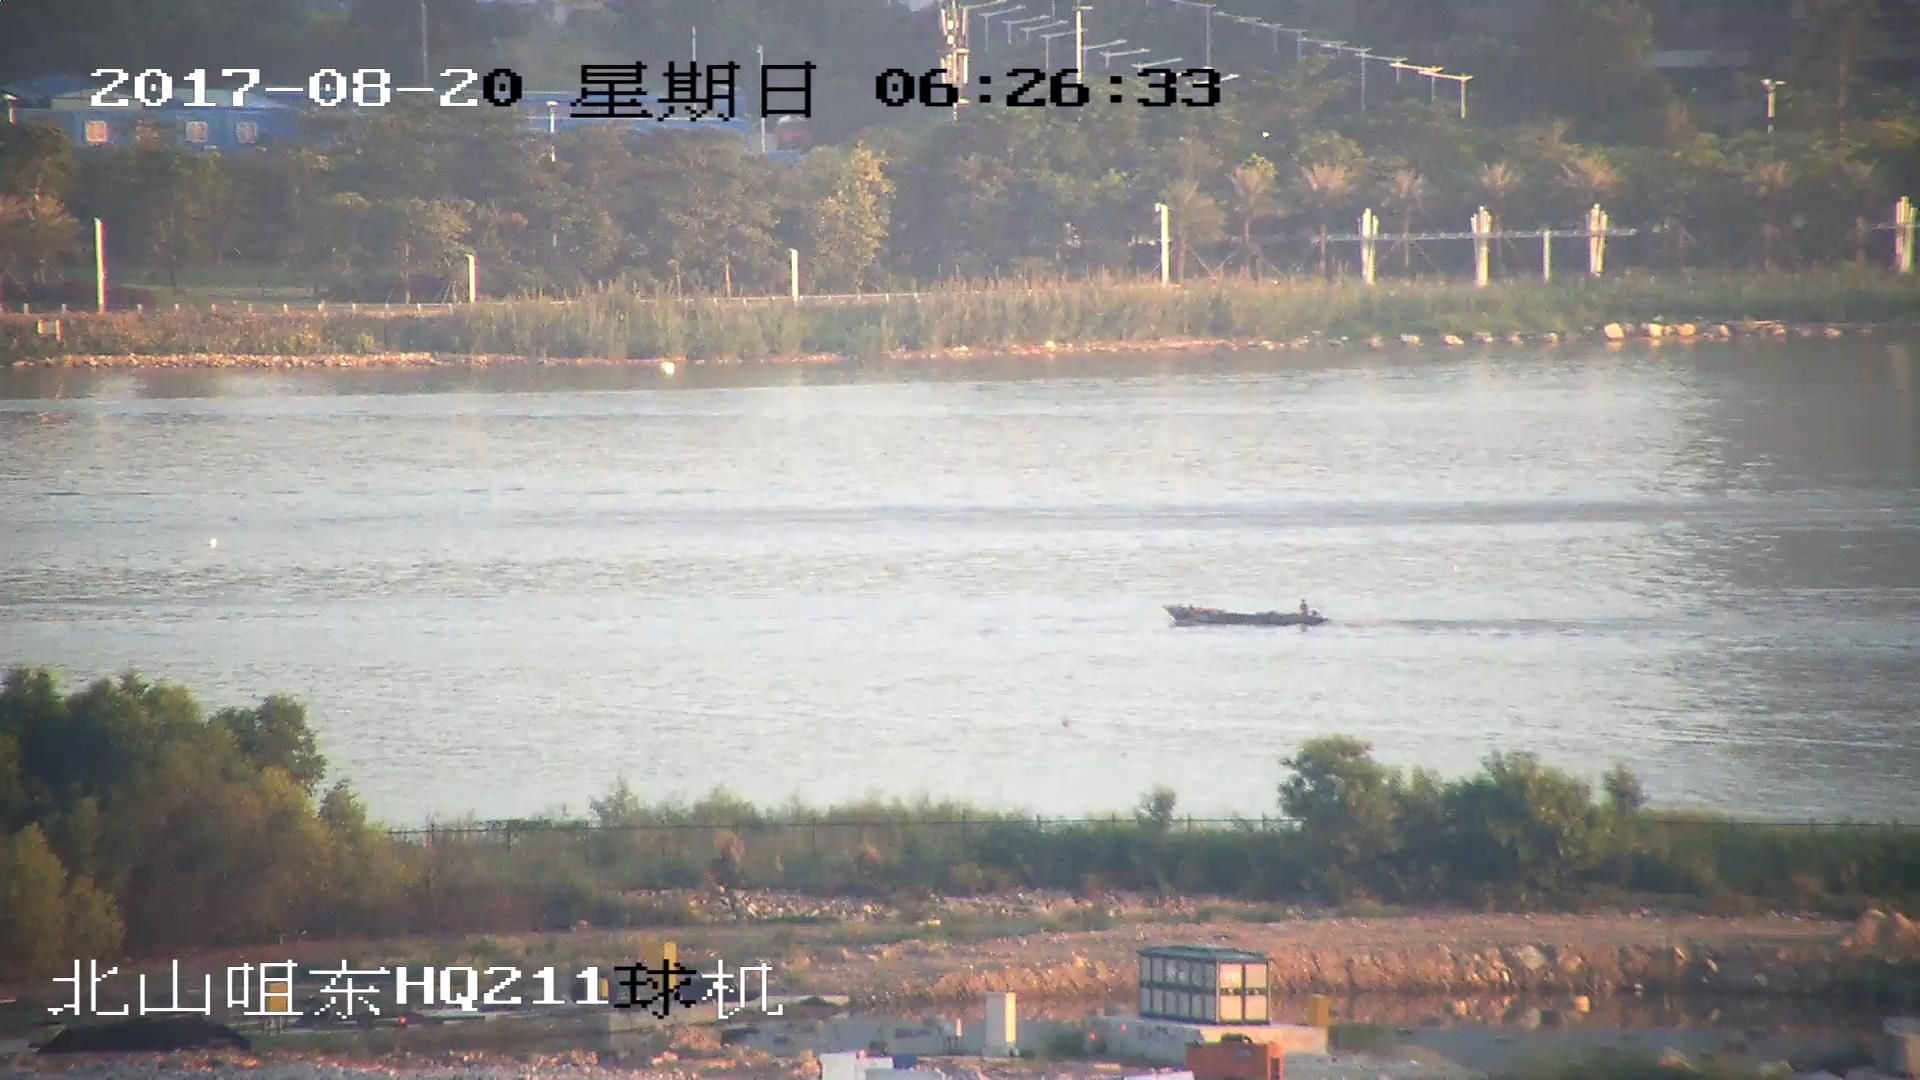fishing boat: (1167, 592, 1325, 629)
